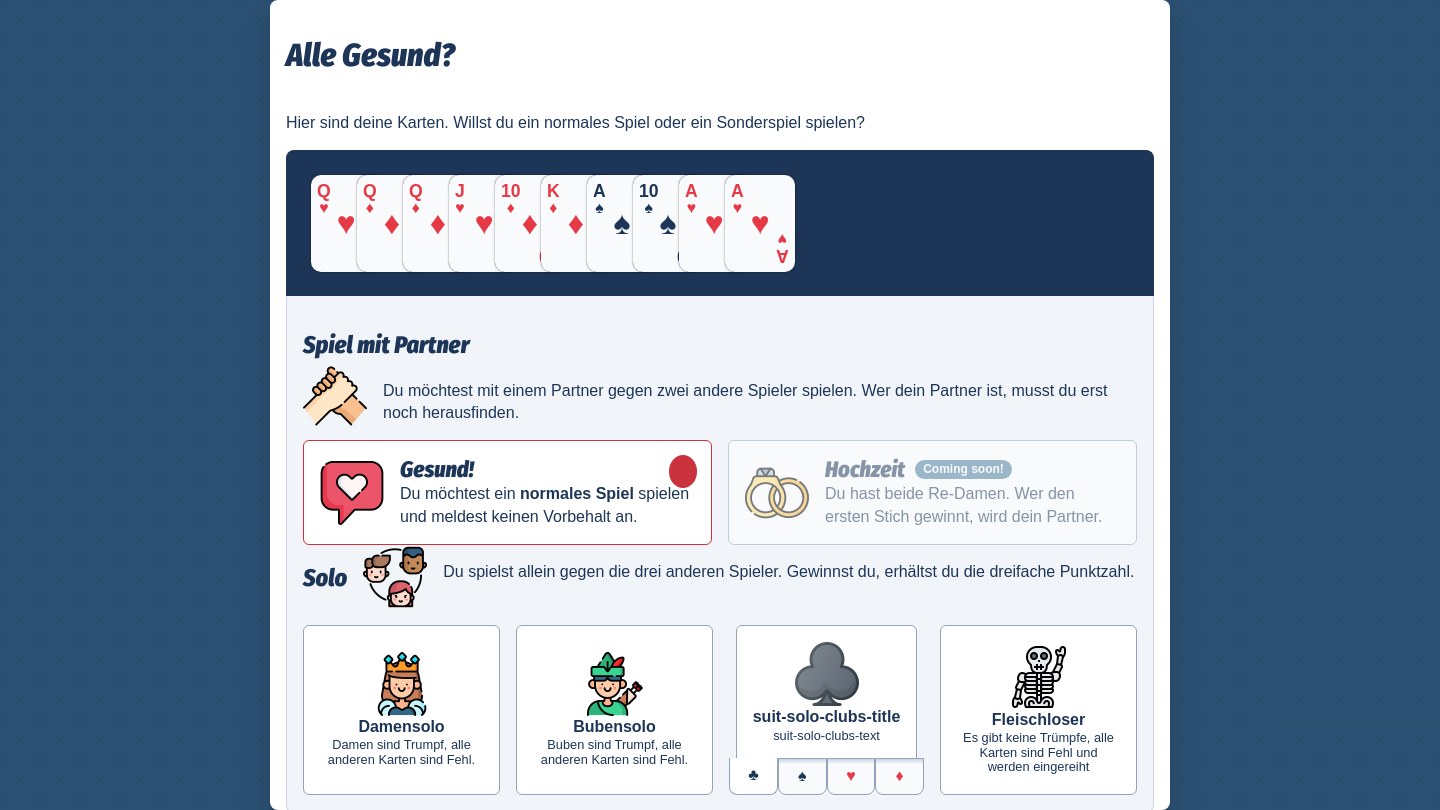
Test case: Reservations.vue › should render 'solo' button text if player selects a solo game
Click the element with id "ace-solo-option": (1038, 710) [940,625,1137,795]
(page scrolled)
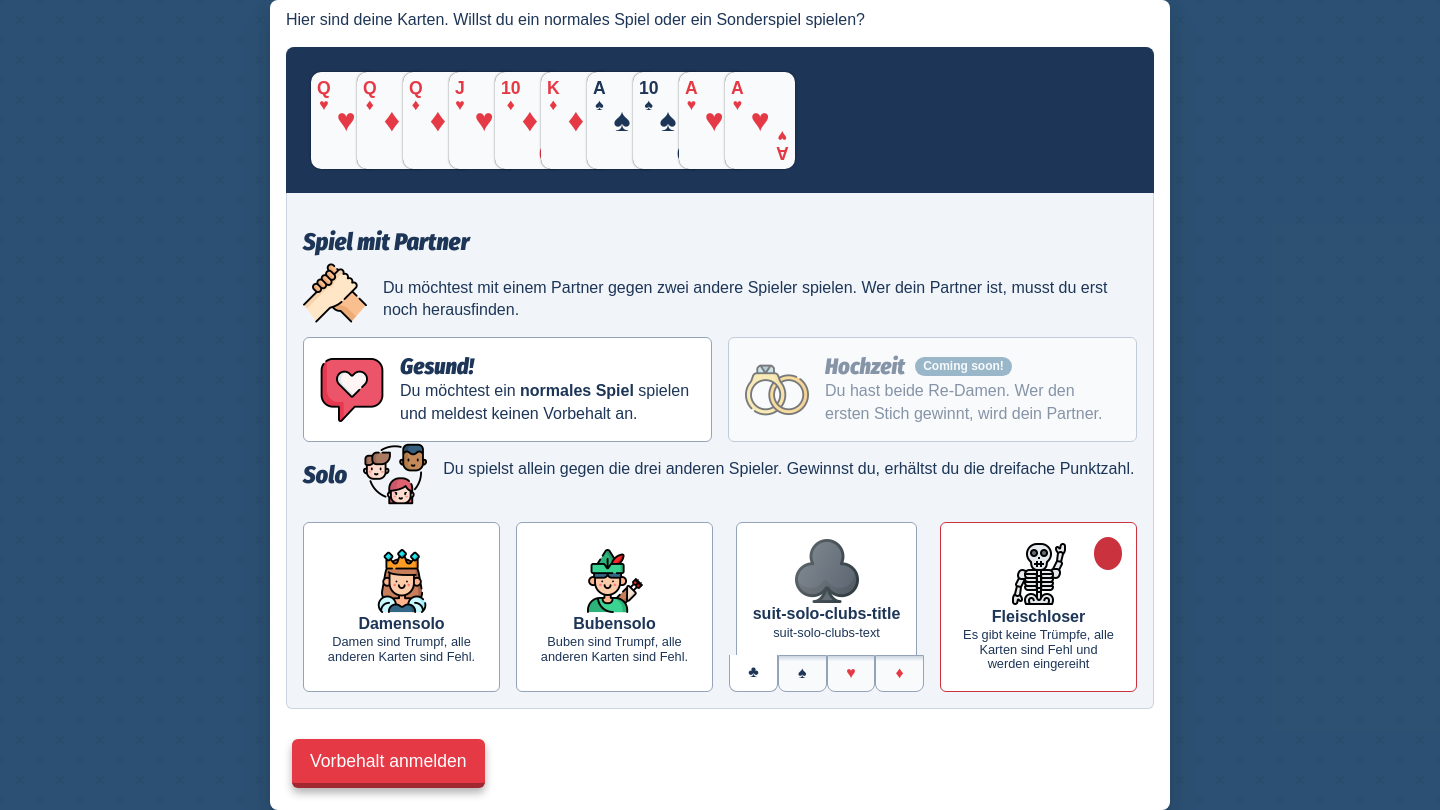
Expected: the button "Vorbehalt anmelden" is shown, [292,739,484,788]
